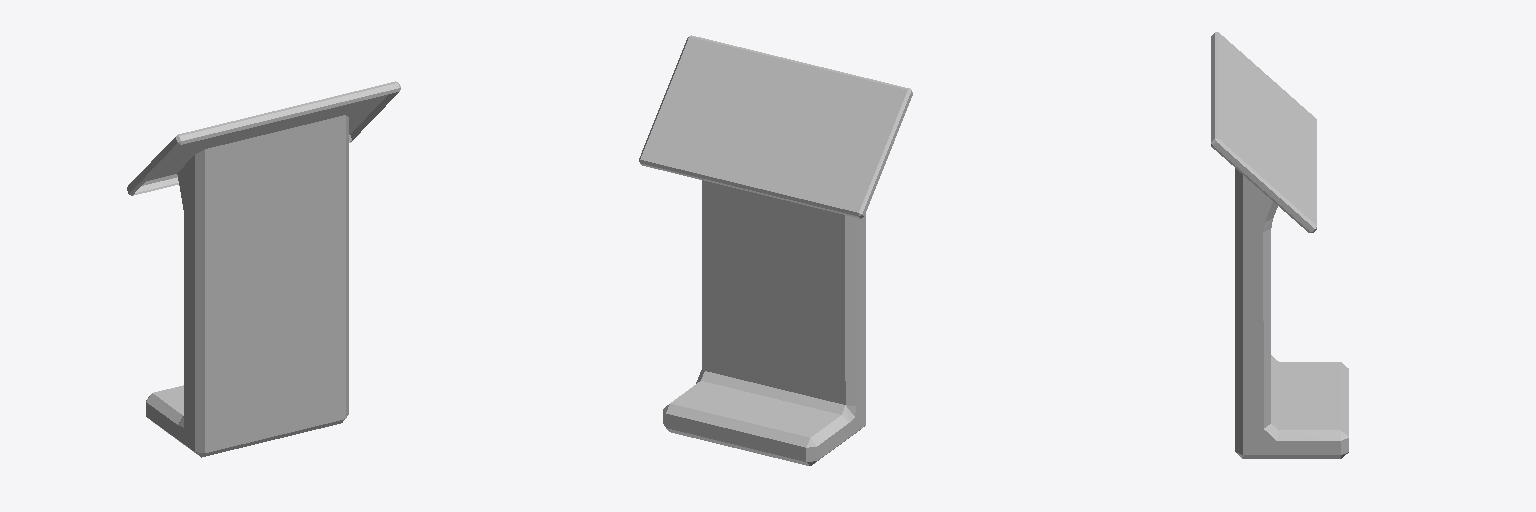
File: computer.obj
3 views of the same model, side by side, from view 1: azimuth 30°, elevation 25°; view 2: azimuth 150°, elevation 25°; view 3: azimuth 270°, elevation 25° (orthographic).
Visible parts, largest first — view 1: group6 group4 pCube17, pCube18 group6 group4; view 2: group6 group4 pCube17, pCube18 group6 group4; view 3: group6 group4 pCube17, pCube18 group6 group4.
Boxes of the visible parts, x1=… form: group6 group4 pCube17: x1=146, y1=115, x2=348, y2=457; pCube18 group6 group4: x1=127, y1=81, x2=400, y2=195; group6 group4 pCube17: x1=663, y1=180, x2=865, y2=465; pCube18 group6 group4: x1=639, y1=35, x2=912, y2=218; group6 group4 pCube17: x1=1235, y1=168, x2=1348, y2=458; pCube18 group6 group4: x1=1211, y1=32, x2=1316, y2=232.
Size of the model in its own units: 3.78 by 5.51 by 2.03.